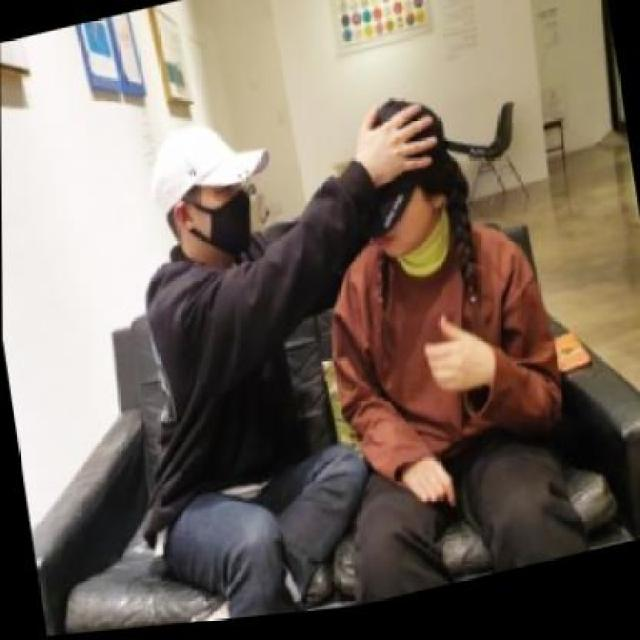hat: (335, 80, 499, 255), (141, 106, 276, 231)
